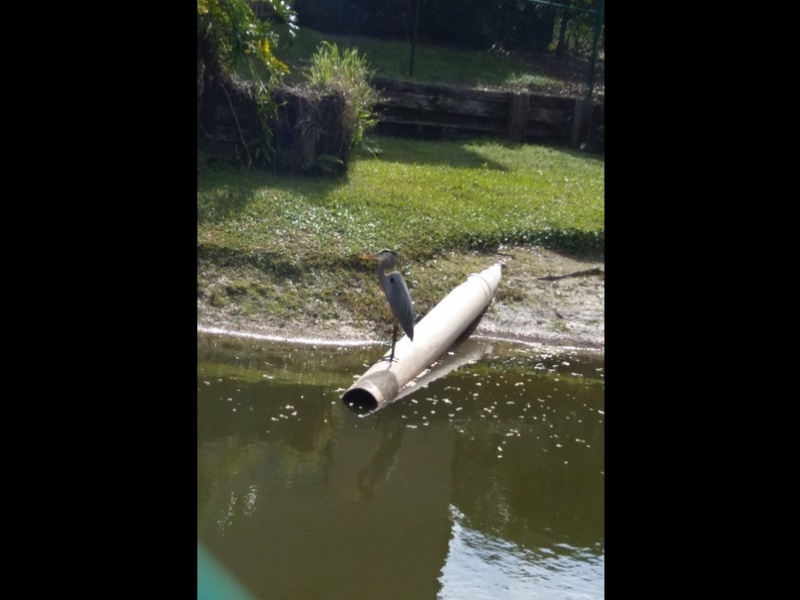heron: (369, 246, 417, 367)
